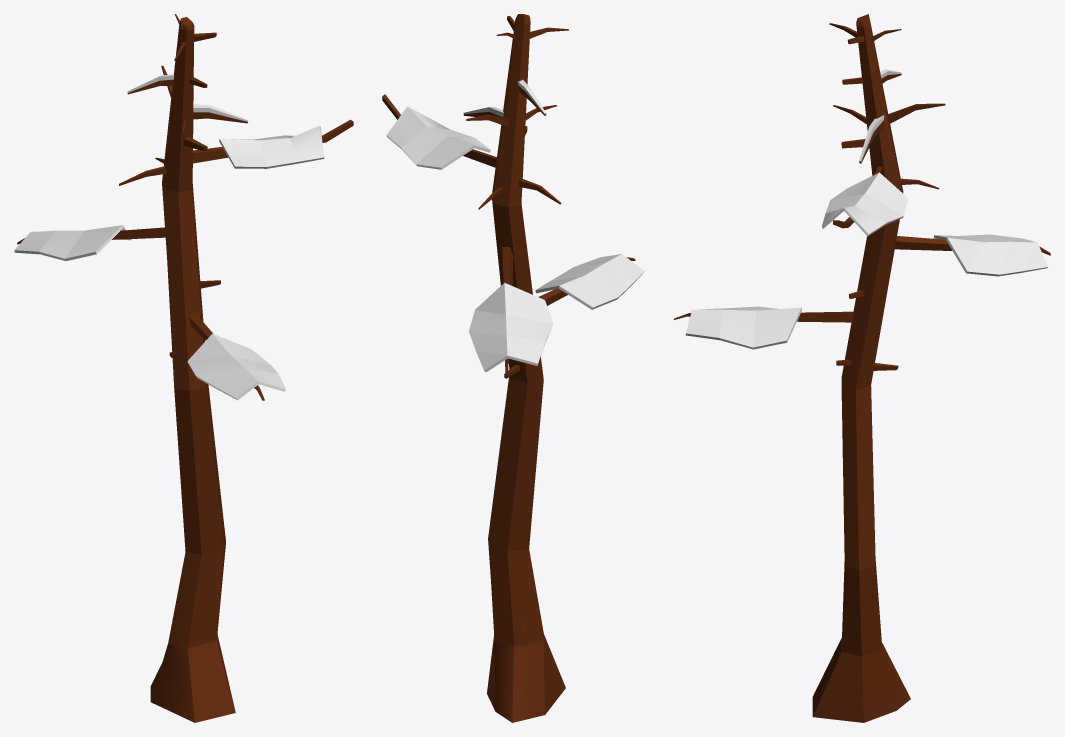
The model's file is Winter_018.fbx.
3 renders of one model, left to right at view 1: azimuth 30°, elevation 25°; view 2: azimuth 150°, elevation 25°; view 3: azimuth 270°, elevation 25°, orthographic.
Visible parts, largest first — view 1: Winter_018; view 2: Winter_018; view 3: Winter_018.
Boxes of the visible parts, left/top/right/bottom form: Winter_018: left=14, top=14, right=353, bottom=722; Winter_018: left=382, top=14, right=644, bottom=722; Winter_018: left=673, top=14, right=1050, bottom=722.
Size of the model in its own units: 3.28 by 8.71 by 4.32.
